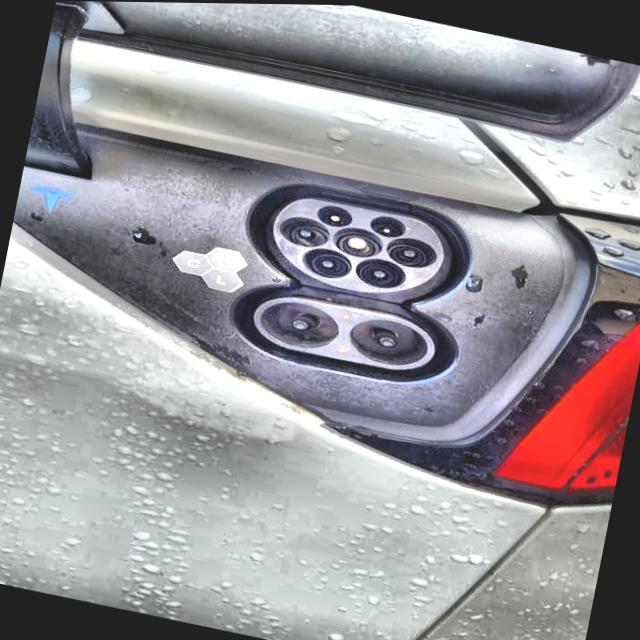inlet: (274, 198, 443, 292)
inlet-above-left: (317, 205, 353, 225)
inlet-above-right: (370, 215, 405, 236)
inlet-below-left: (302, 246, 352, 277)
inlet-below-right: (356, 258, 405, 287)
inlet-center: (332, 227, 383, 256)
inlet-center-left: (280, 216, 330, 246)
inlet-center-right: (386, 237, 436, 267)
